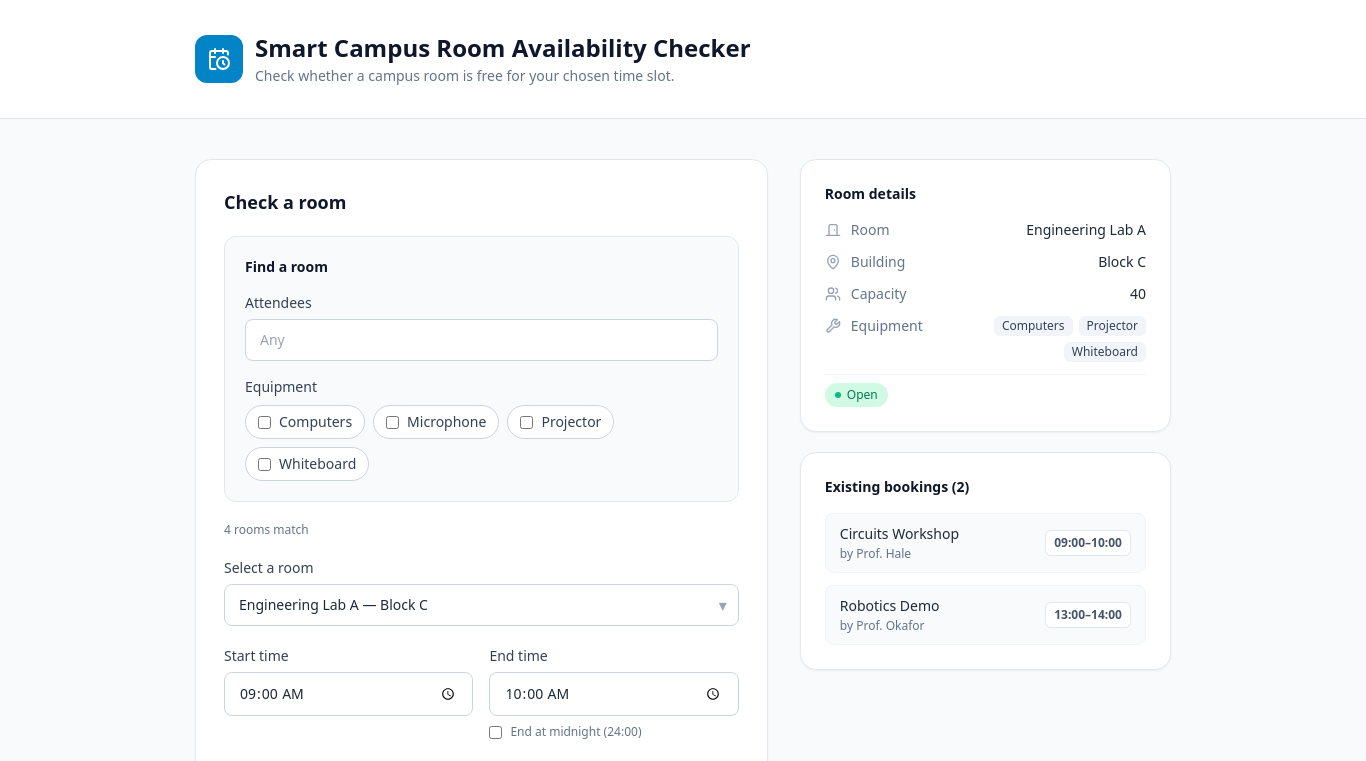
Test: App integration (UI behavior) › UI3 (F4): impossible filter shows the empty state and disables checking
Type "130" into the number field labelled "Attendees" at [481, 340], box [245,319,718,361]
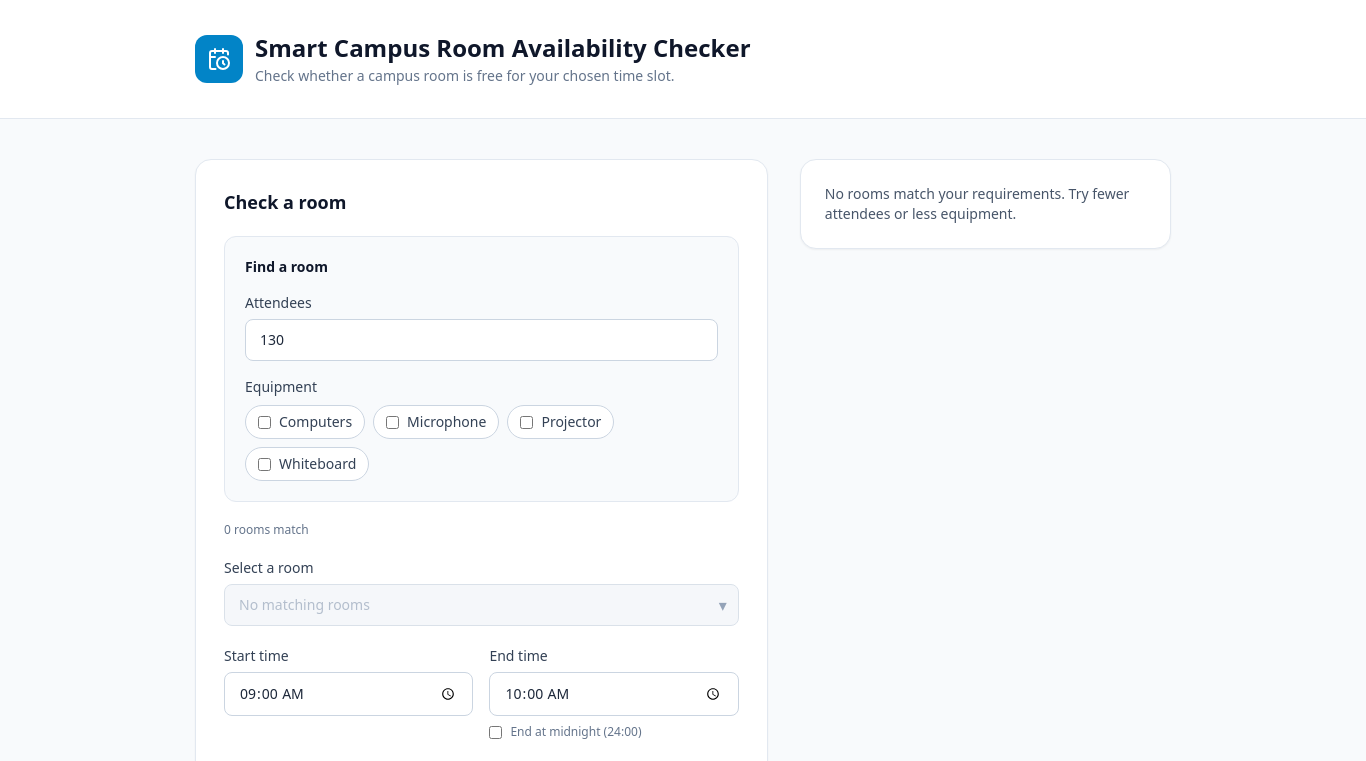
Expected: the text "No rooms match your requirements" is shown, [825,184,1129,223]
Expected: the text "0 rooms match" is shown, [224,521,309,538]
Expected: the dropdown labelled "Select a room" is disabled, [224,584,739,626]
